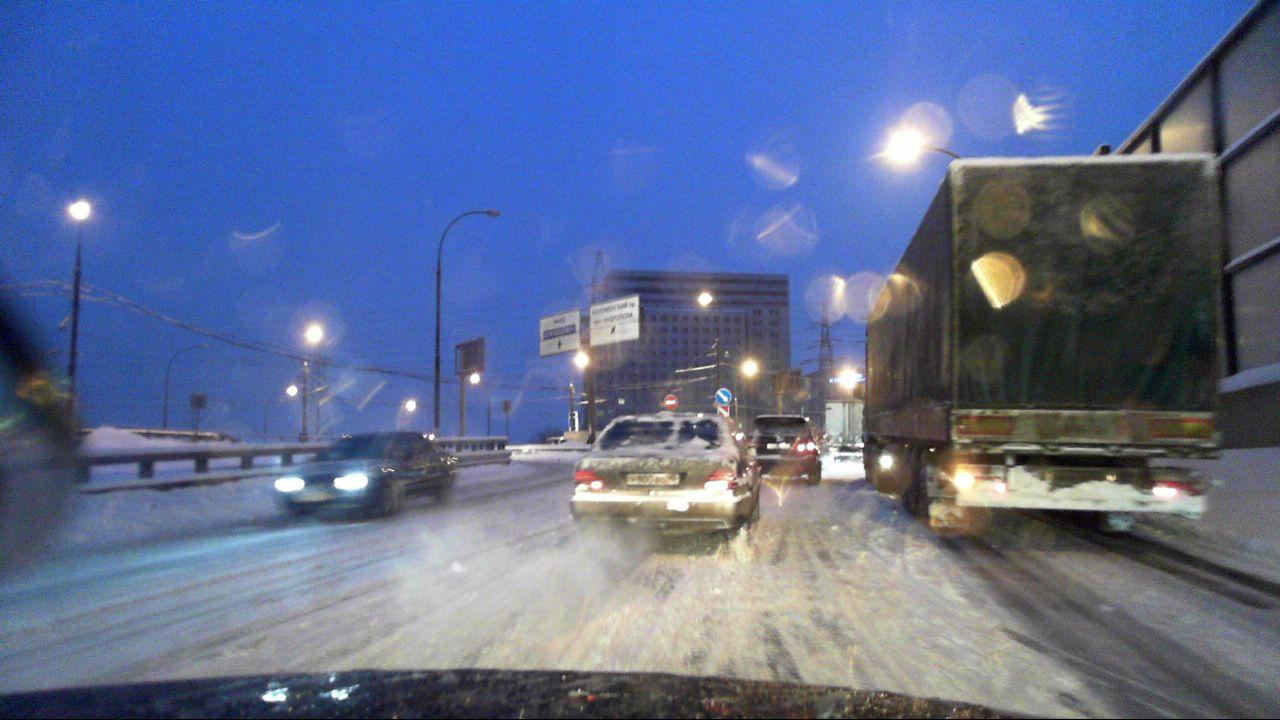obstructed_road_sign: (717, 405, 730, 417)
road_sign: (715, 388, 732, 405), (664, 394, 679, 410)
